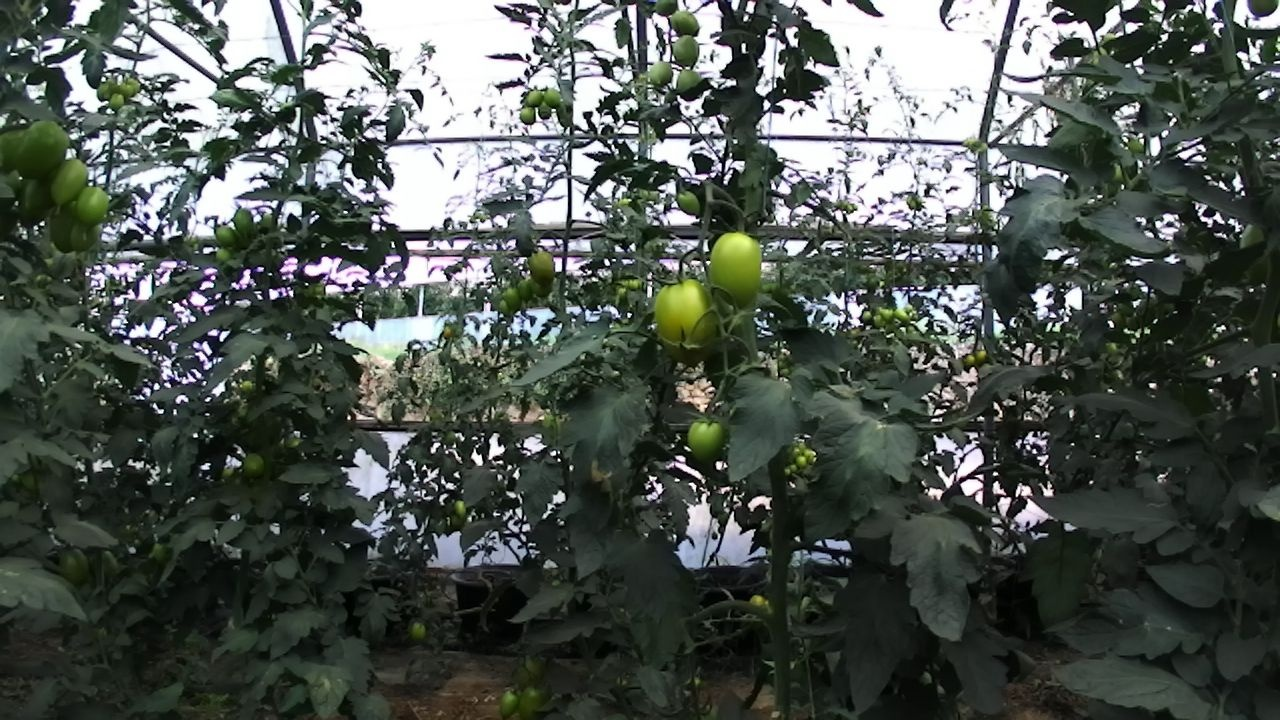tomato: (644, 264, 727, 369), (696, 219, 779, 318), (9, 114, 79, 185), (678, 412, 736, 466), (13, 165, 58, 231), (44, 199, 93, 257), (47, 151, 95, 209), (71, 175, 117, 229), (507, 679, 558, 720), (522, 246, 564, 289), (666, 29, 706, 72), (661, 4, 705, 42), (64, 217, 106, 256), (671, 183, 709, 225), (668, 64, 708, 103), (235, 445, 276, 482), (229, 201, 261, 244), (492, 681, 527, 720), (645, 56, 678, 91), (210, 220, 245, 253), (501, 282, 528, 313), (402, 617, 431, 645), (447, 495, 476, 521), (91, 78, 120, 104), (514, 276, 538, 307), (211, 243, 237, 269), (541, 84, 565, 110), (106, 89, 129, 114), (116, 77, 138, 102), (524, 85, 547, 108), (517, 104, 539, 127), (535, 98, 555, 122), (878, 304, 898, 325), (892, 305, 912, 324), (794, 452, 811, 471), (858, 307, 875, 323)
